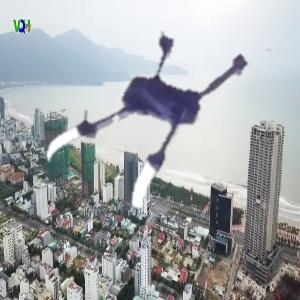drone: (43, 11, 268, 236)
